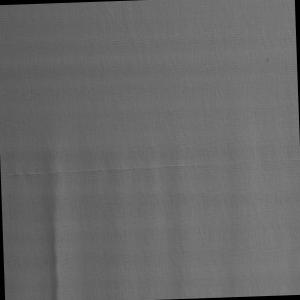Wrinkle: (1, 118, 300, 300), (1, 1, 299, 103)
